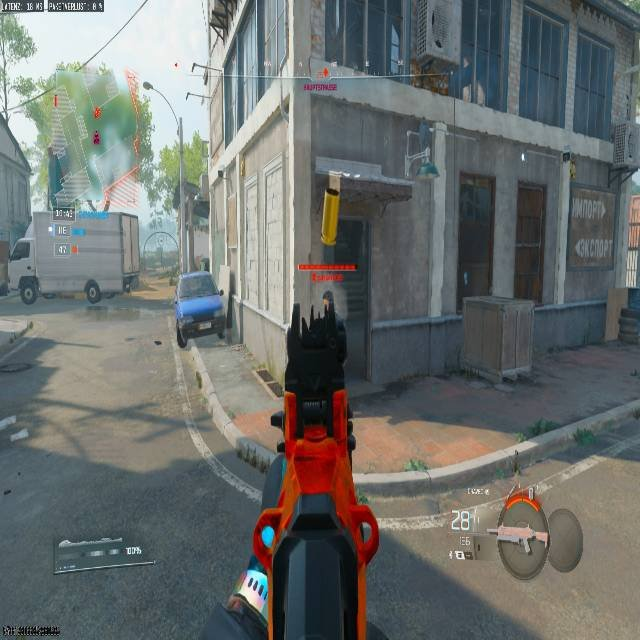player: (322, 288, 334, 314)
